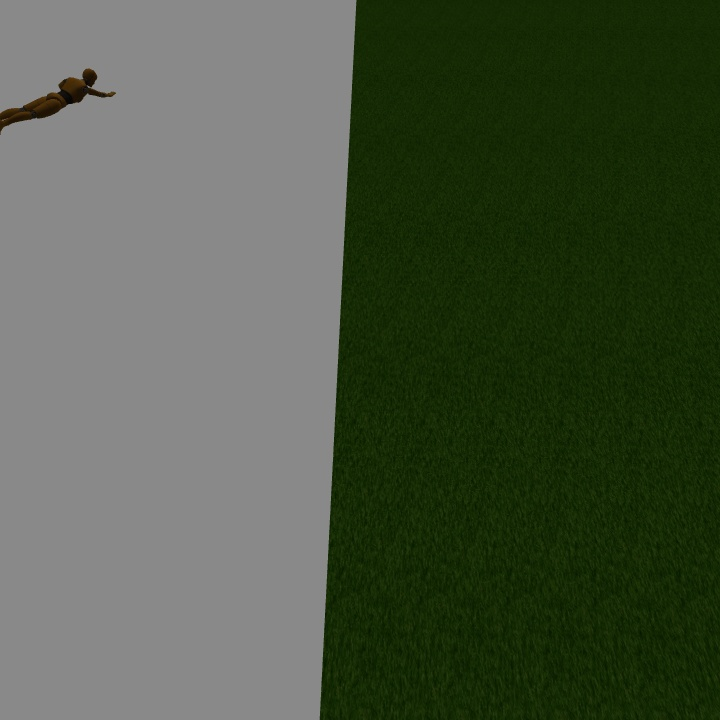victim: (1, 67, 116, 128)
